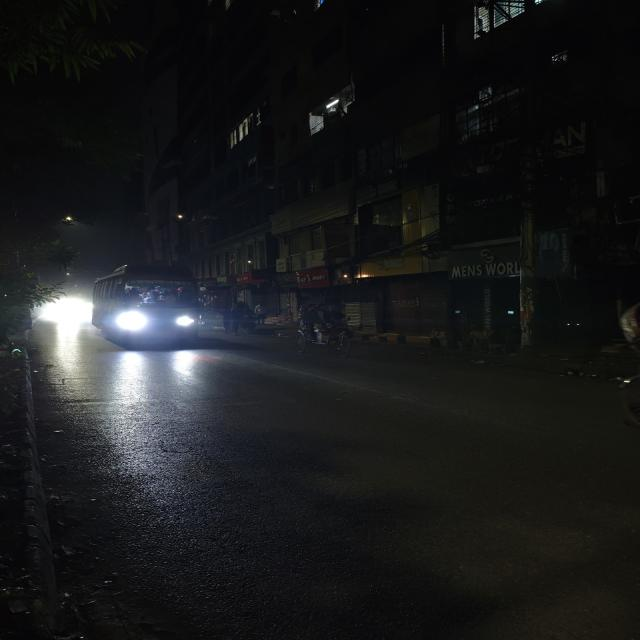bus: (88, 264, 206, 351)
pedestrian: (214, 306, 236, 337)
rickshaw: (288, 304, 361, 361), (230, 301, 253, 335)
